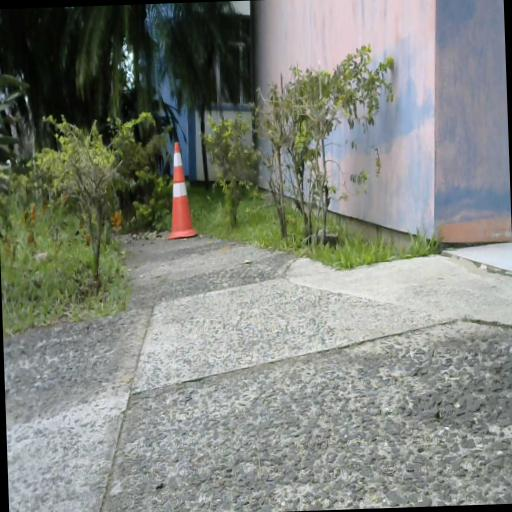cone: (166, 144, 195, 238)
